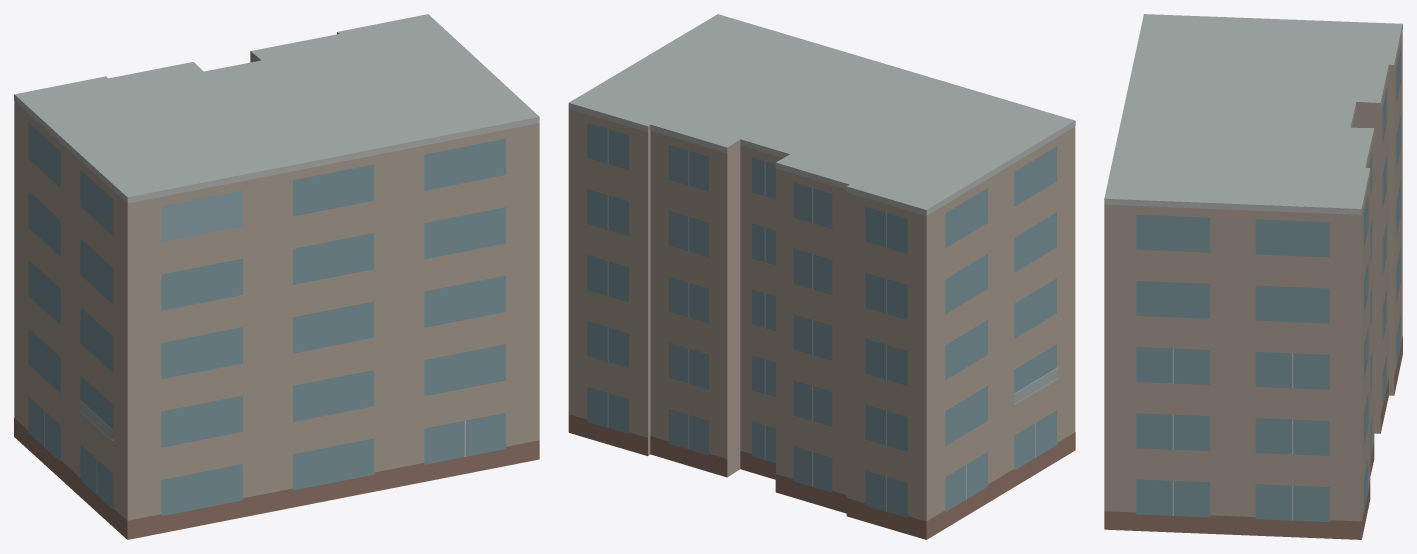
Rendered from survey-upis-32993621.glb.
The picture shows the model from 3 angles, left to right: view 1: azimuth 30°, elevation 25°; view 2: azimuth 150°, elevation 25°; view 3: azimuth 270°, elevation 25°; orthographic projection. The views are drawn at different scales.
Visible parts, largest first — view 1: survey-upis-32993621.tmp; view 2: survey-upis-32993621.tmp; view 3: survey-upis-32993621.tmp.
Boxes of the visible parts, <box> form: survey-upis-32993621.tmp: <box>14,14,539,539</box>; survey-upis-32993621.tmp: <box>568,14,1075,539</box>; survey-upis-32993621.tmp: <box>1104,14,1402,539</box>.
Size of the model in its own units: 17.13 by 13.55 by 11.09.
